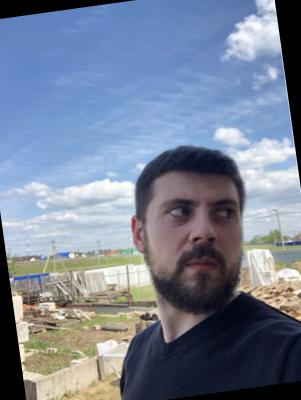without_mask: (151, 180, 255, 318)
